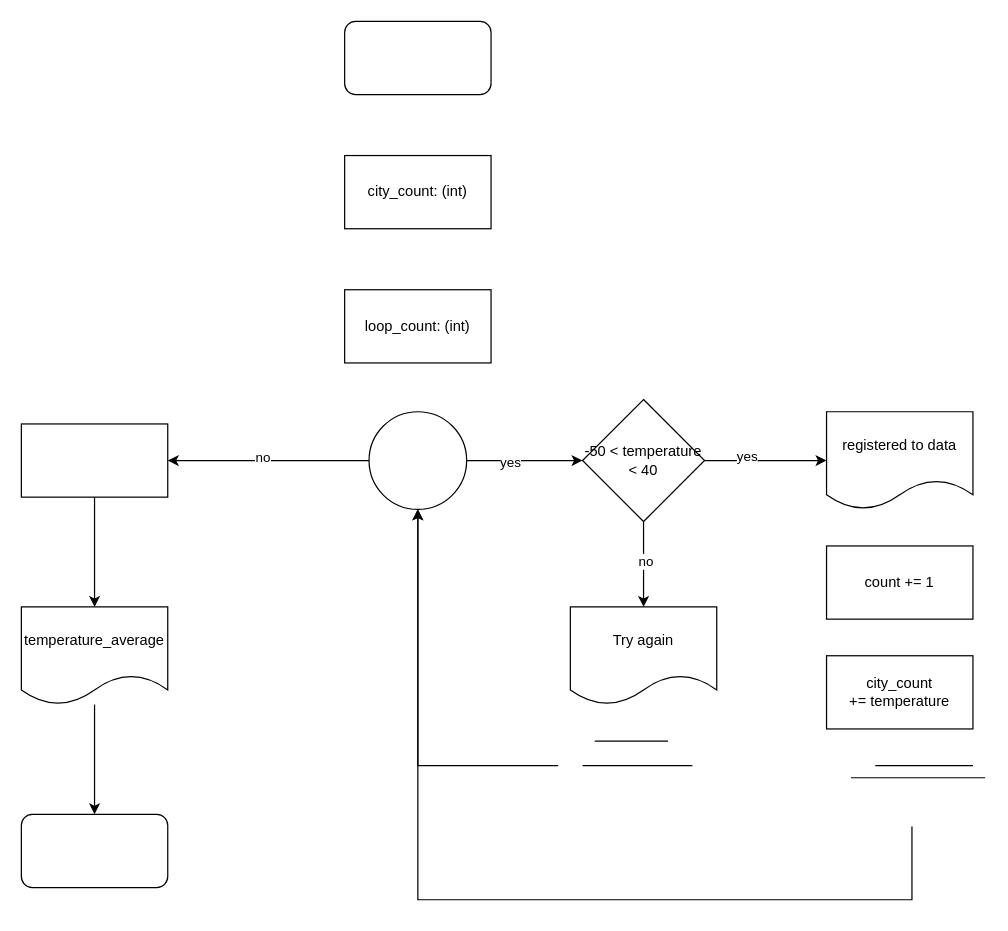
Some shapes in this 1008 by 931 pixel diagram are drawn without their labels. Here are the shapes that lost their labels. From the top down, the box of each, then its label:
(343, 20, 491, 95): Start
(20, 423, 168, 497): city_count / 5
(368, 411, 467, 509): while count != 5
(20, 813, 168, 888): End
